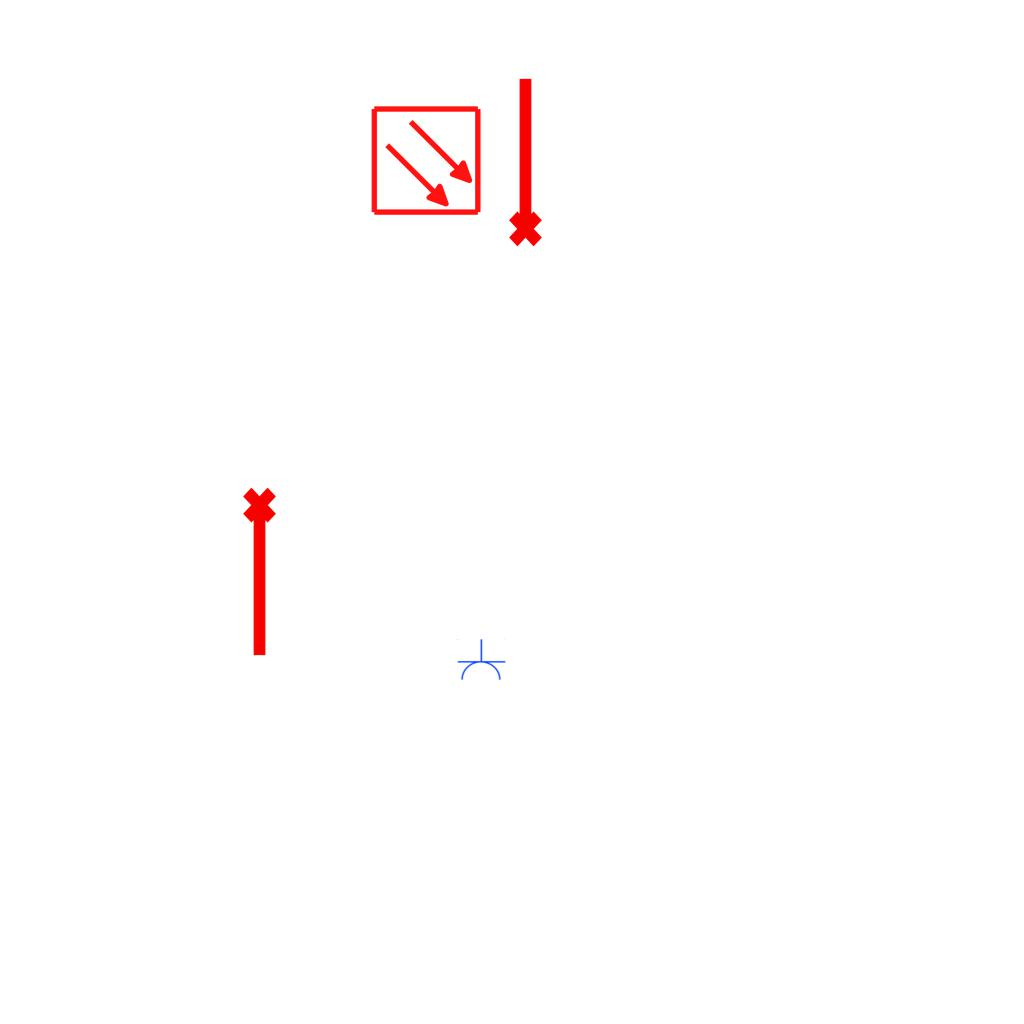ASR_Ansaugoeffnung: (500, 73, 546, 249), (239, 485, 285, 661)
RMO_Rauchmelder_optischer: (370, 104, 483, 217)
Schukosteckdose_einfach: (456, 639, 506, 682)
